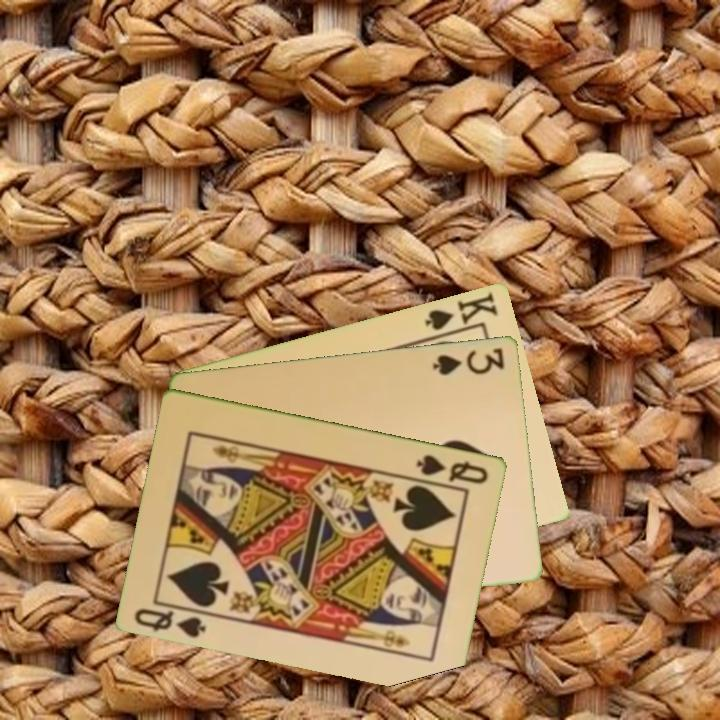3s: (429, 343, 508, 378)
Ks: (421, 288, 501, 341)
Qs: (413, 450, 492, 487), (131, 604, 210, 641)
